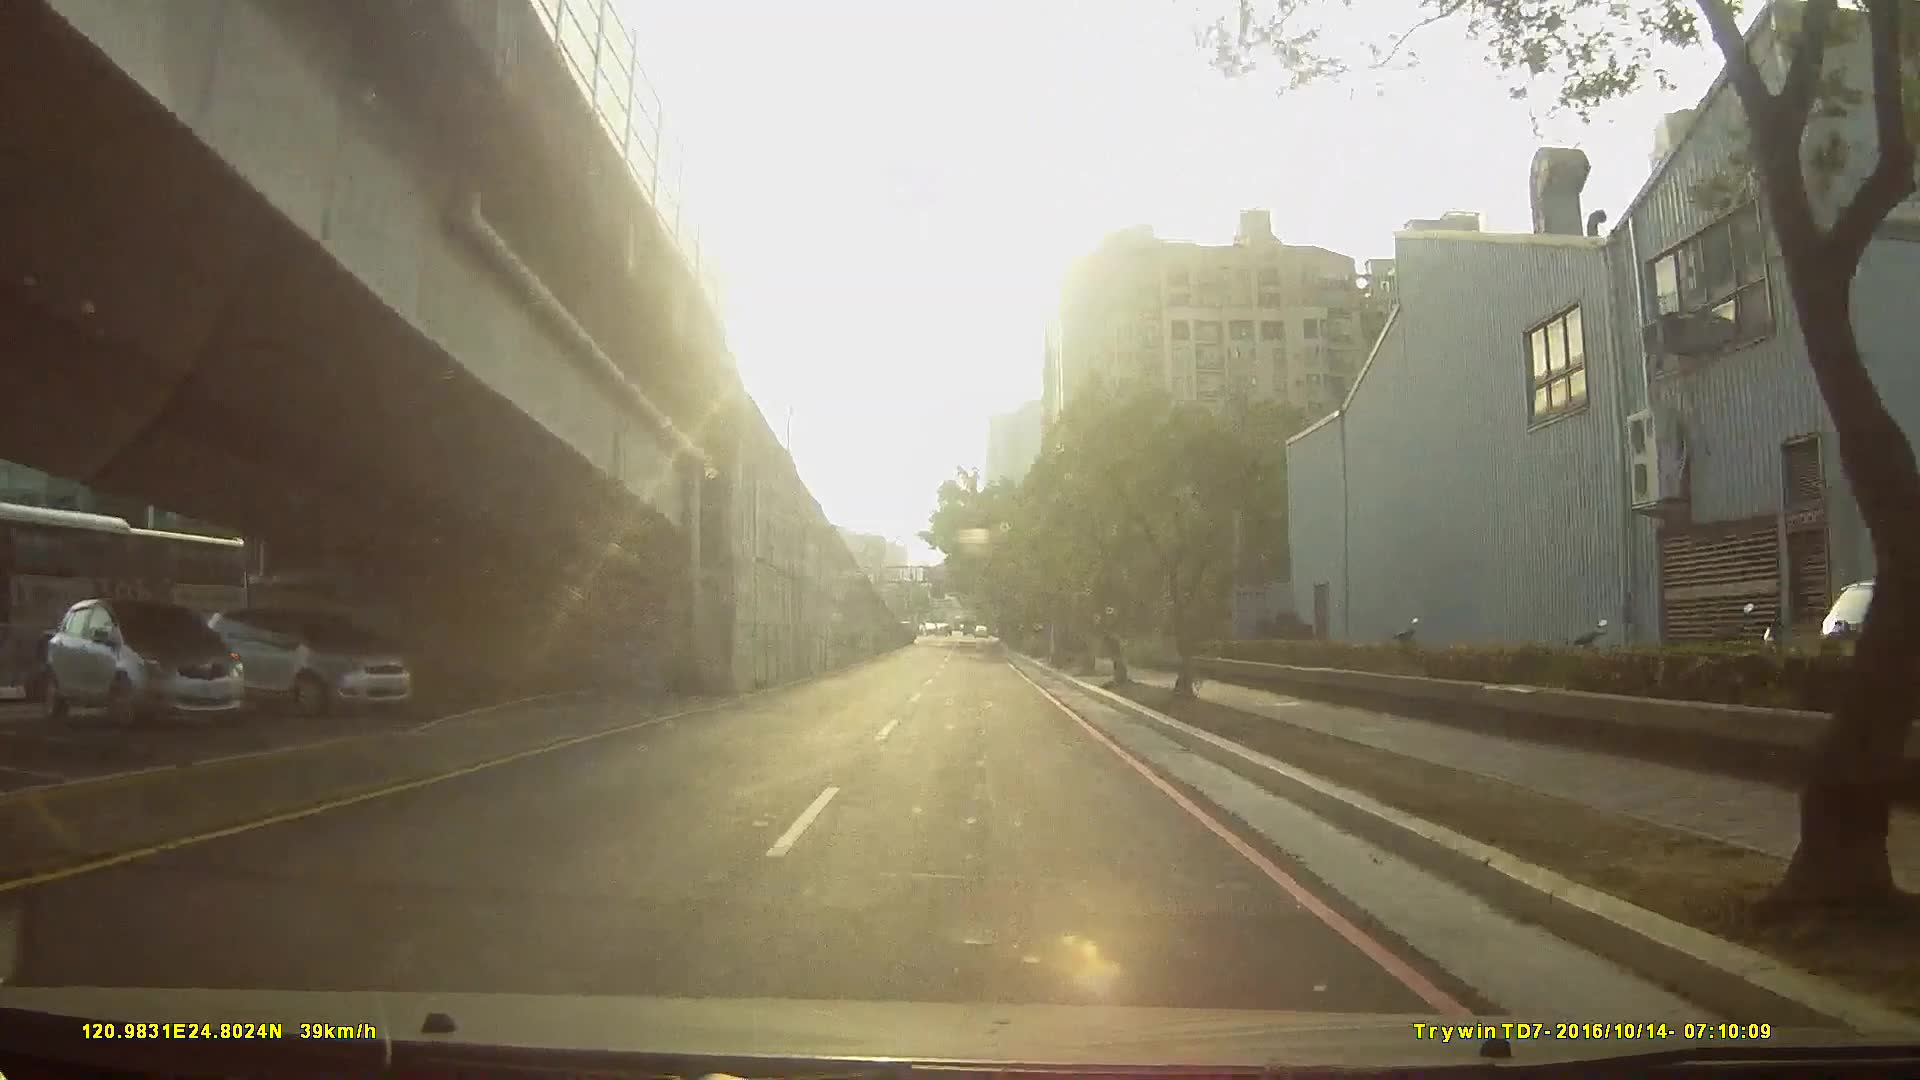vehicle: (1, 500, 241, 705), (36, 595, 251, 735), (177, 607, 427, 723)
